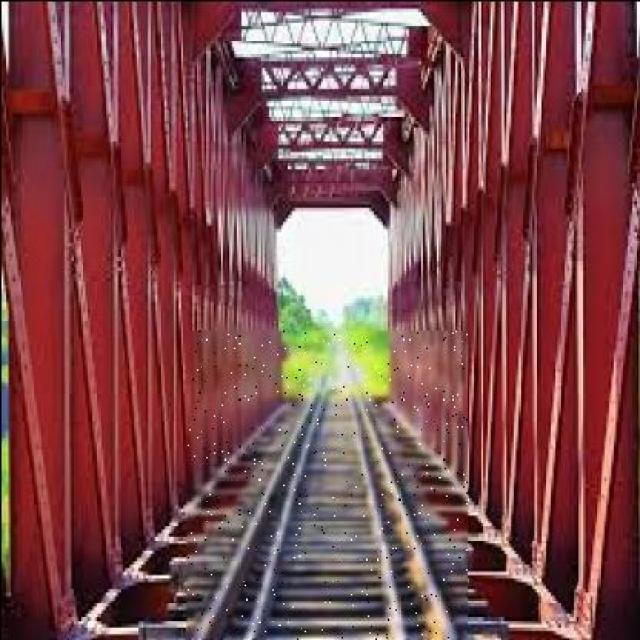rail: (186, 330, 465, 638)
